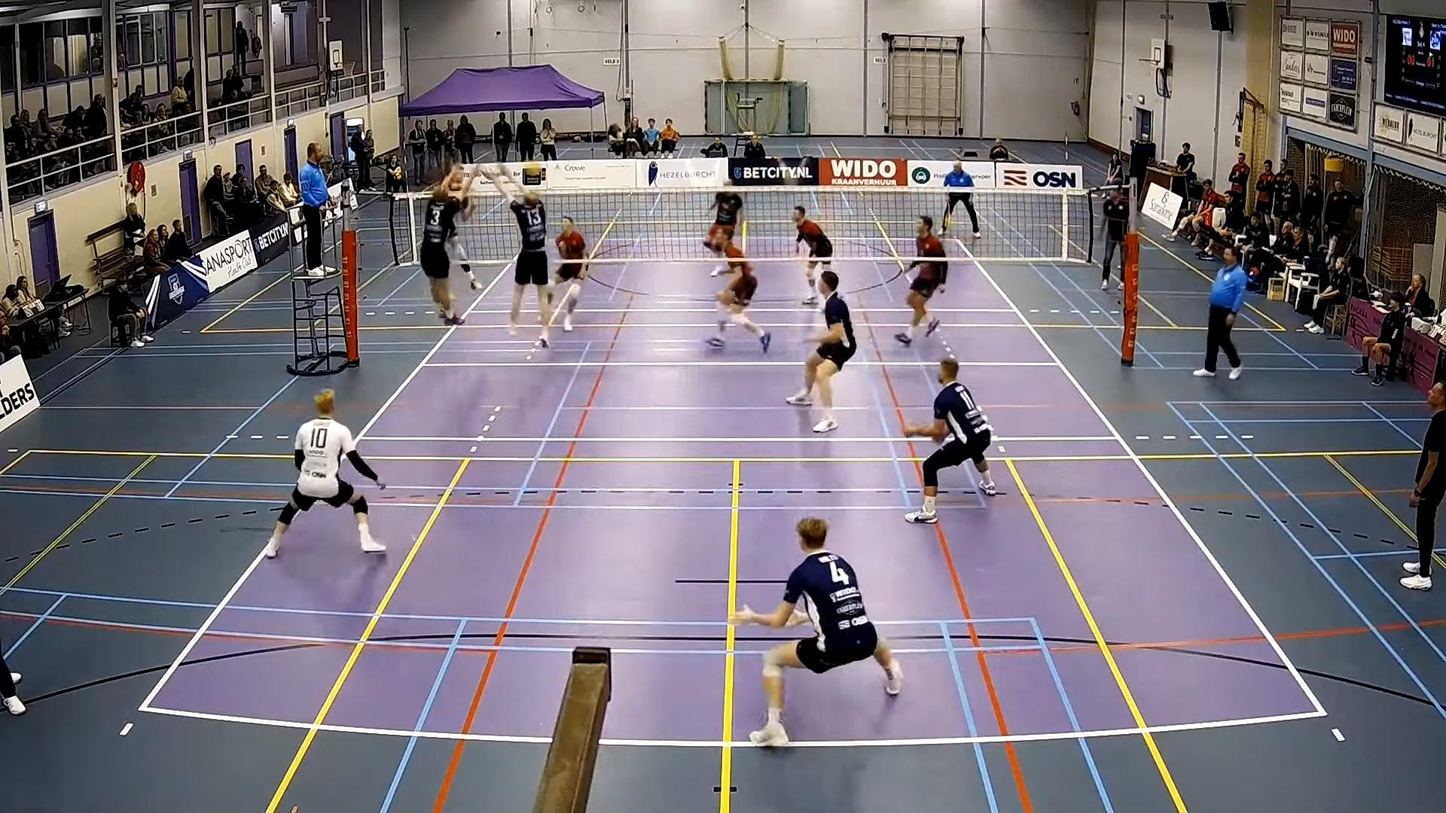Attack: (438, 163, 484, 296)
Block: (484, 164, 554, 335), (402, 164, 472, 326)
Player: (729, 518, 901, 746), (264, 389, 386, 557), (904, 358, 996, 522), (786, 269, 856, 432), (706, 234, 770, 352), (895, 215, 947, 345), (549, 217, 587, 331), (793, 207, 832, 305), (704, 190, 743, 258)
